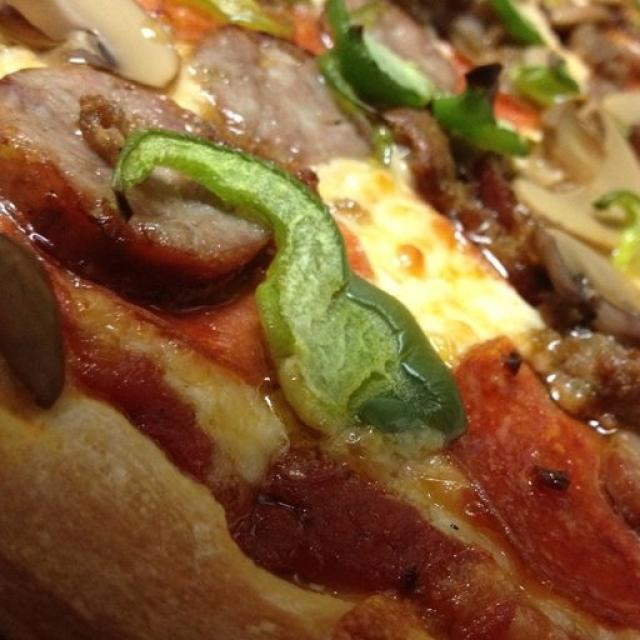Beef: (535, 317, 640, 432)
Green Pepper: (127, 124, 458, 438), (319, 0, 431, 116), (484, 0, 593, 100), (435, 62, 518, 154), (600, 190, 640, 294), (86, 94, 142, 153)
Ham: (3, 70, 281, 293), (195, 18, 371, 164)
Pepperoni: (2, 70, 377, 390), (458, 326, 640, 617), (447, 36, 625, 208)
Pizza: (0, 0, 640, 640)
